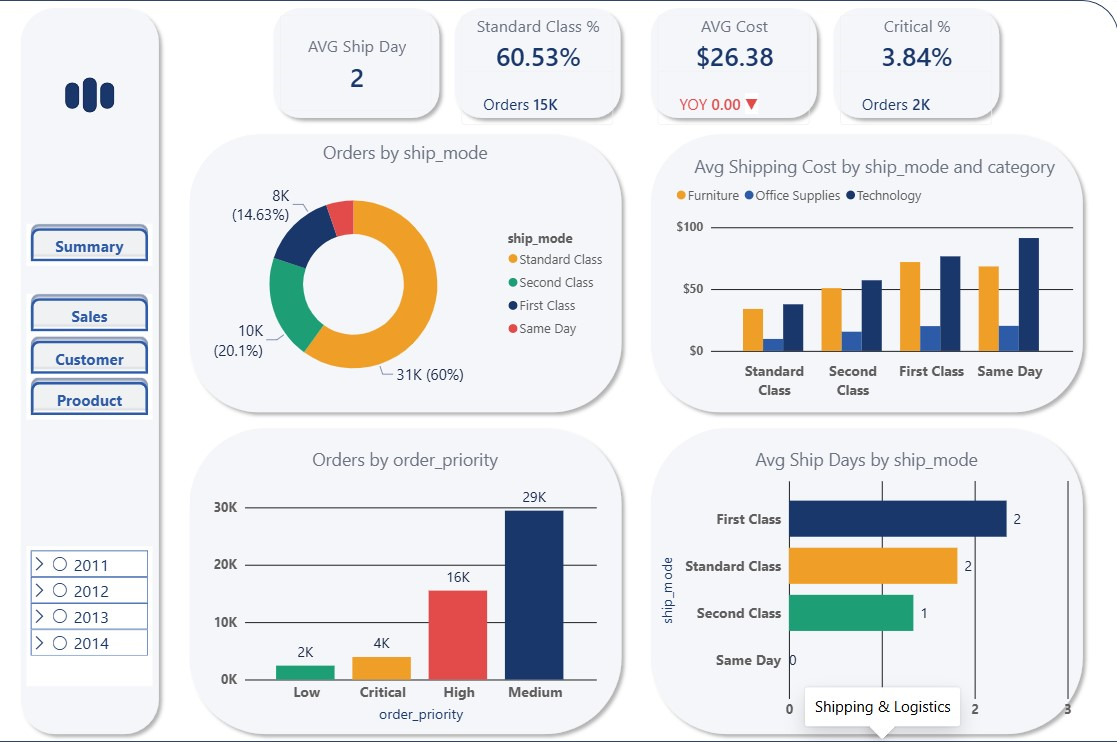

Layout of this report page (visuals, bound fields, positions):
{"tool":"powerbi","page":{"name":"Shipping & Logistics","canvas":[1280,850],"ordinal":4},"visuals":[{"type":"shape","box":[0,0,1280,848],"z":0},{"type":"shape","box":[16,0,176,848],"z":1000},{"type":"shape","box":[736,144,512,336],"z":2000},{"type":"shape","box":[208,480,512,368],"z":3000},{"type":"shape","box":[208,144,512,336],"z":4000},{"type":"shape","box":[304,0,208,144],"z":5000},{"type":"shape","box":[736,0,208,144],"z":6000},{"type":"shape","box":[512,0,208,144],"z":7000},{"type":"shape","box":[944,0,208,144],"z":8000},{"type":"cardVisual","fields":{"Data":["KPIs.Avg Ship Days"]},"box":[304,0,208,144],"z":9000},{"type":"cardVisual","fields":{"Data":["KPIs.Avg Shipping Cost"]},"box":[736,0,208,160],"z":10000},{"type":"cardVisual","fields":{"Data":["KPIs.Critical %"]},"box":[944,0,208,160],"z":11000},{"type":"cardVisual","fields":{"Data":["KPIs.Standard Class %"]},"box":[512,0,208,160],"z":12000},{"type":"shape","box":[96,88,16,40],"z":13000},{"type":"shape","box":[116,94,16,30],"z":14000},{"type":"shape","box":[76,94,16,30],"z":15000},{"type":"donutChart","fields":{"Y":["KPIs.Orders"],"Category":["FactSales.ship_mode"]},"box":[224,160,480,304],"z":16000},{"type":"clusteredColumnChart","fields":{"Y":["KPIs.Avg Shipping Cost"],"Category":["FactSales.ship_mode"],"Series":["FactSales.category"]},"box":[768,176,464,288],"z":17000},{"type":"columnChart","fields":{"Category":["FactSales.order_priority"],"Y":["KPIs.Orders"]},"box":[240,512,448,320],"z":18000},{"type":"shape","box":[736,480,512,368],"z":19000},{"type":"barChart","fields":{"Category":["FactSales.ship_mode"],"Y":["KPIs.Avg Ship Days"]},"box":[752,512,480,320],"z":20000},{"type":"listSlicer","fields":{"Values":["Date Table.Date.Variation.Date Hierarchy.Year","Date Table.Date.Variation.Date Hierarchy.Quarter","Date Table.Date.Variation.Date Hierarchy.Month","Date Table.Date.Variation.Date Hierarchy.Day"]},"box":[32,624,144,160],"z":21000},{"type":"actionButton","box":[32,384,144,48],"z":22000},{"type":"actionButton","box":[32,432,144,48],"z":23000},{"type":"actionButton","box":[32,336,144,48],"z":24000},{"type":"actionButton","box":[32,256,144,48],"z":25000}]}

Visuals, with their boxes in screenshot pixels (x1, y1, x2, y2), scaled from the page's 1280x850 canvas onto the 1117x742 screenshot:
shape: BBox(0, 0, 1116, 740)
shape: BBox(14, 0, 168, 740)
shape: BBox(642, 126, 1089, 419)
shape: BBox(182, 419, 628, 740)
shape: BBox(182, 126, 628, 419)
shape: BBox(265, 0, 447, 126)
shape: BBox(642, 0, 824, 126)
shape: BBox(447, 0, 628, 126)
shape: BBox(824, 0, 1005, 126)
cardVisual - KPIs.Avg Ship Days: BBox(265, 0, 447, 126)
cardVisual - KPIs.Avg Shipping Cost: BBox(642, 0, 824, 140)
cardVisual - KPIs.Critical %: BBox(824, 0, 1005, 140)
cardVisual - KPIs.Standard Class %: BBox(447, 0, 628, 140)
shape: BBox(84, 77, 98, 112)
shape: BBox(101, 82, 115, 108)
shape: BBox(66, 82, 80, 108)
donutChart - KPIs.Orders x FactSales.ship_mode: BBox(195, 140, 614, 405)
clusteredColumnChart - KPIs.Avg Shipping Cost x FactSales.ship_mode: BBox(670, 154, 1075, 405)
columnChart - FactSales.order_priority x KPIs.Orders: BBox(209, 447, 600, 726)
shape: BBox(642, 419, 1089, 740)
barChart - FactSales.ship_mode x KPIs.Avg Ship Days: BBox(656, 447, 1075, 726)
listSlicer - Date Table.Date.Variation.Date Hierarchy.Year x Date Table.Date.Variation.Date Hierarchy.Quarter: BBox(28, 545, 154, 684)
actionButton: BBox(28, 335, 154, 377)
actionButton: BBox(28, 377, 154, 419)
actionButton: BBox(28, 293, 154, 335)
actionButton: BBox(28, 223, 154, 265)
